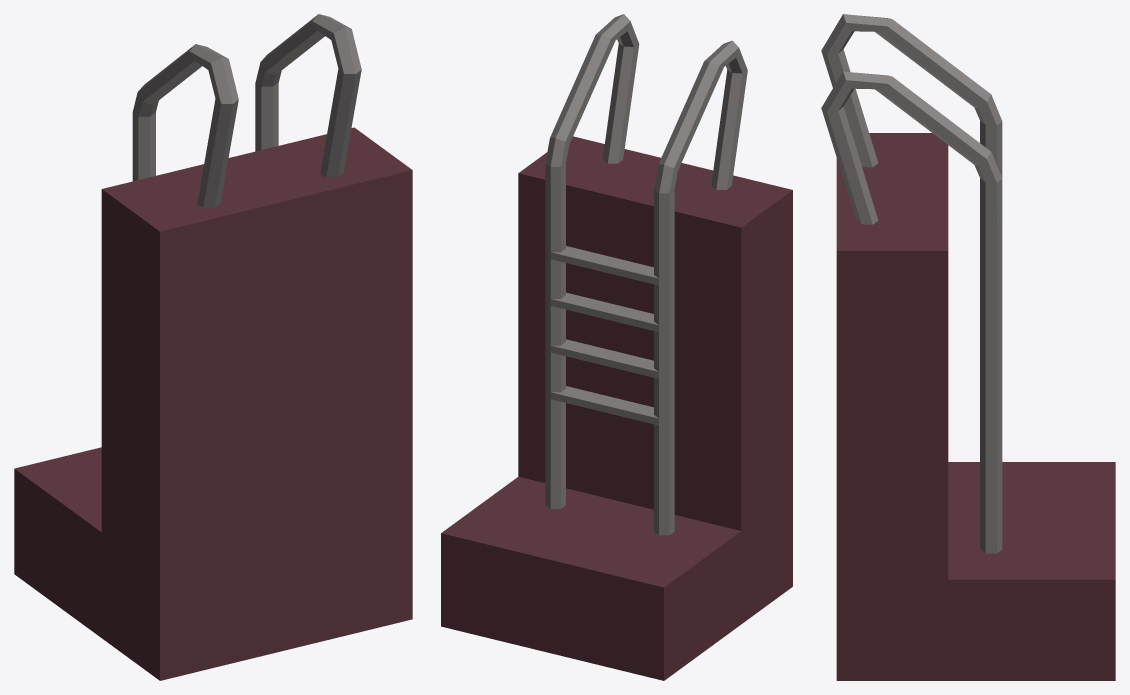
Rendered from pool-part-edge-stairs-1x1m.fbx.
3 views of the same model, side by side, from view 1: azimuth 30°, elevation 25°; view 2: azimuth 150°, elevation 25°; view 3: azimuth 270°, elevation 25° (orthographic). The views are drawn at different scales.
Visible parts, largest first — view 1: pool-part-edge-stairs-1x1m; view 2: pool-part-edge-stairs-1x1m; view 3: pool-part-edge-stairs-1x1m.
Part boxes in pixels (box(x1,y1,x2,y2)): pool-part-edge-stairs-1x1m: box(14, 14, 412, 680); pool-part-edge-stairs-1x1m: box(441, 14, 792, 680); pool-part-edge-stairs-1x1m: box(821, 14, 1115, 680).
Bounding box in the file's own units: 1 × 2.29 × 1.06.
